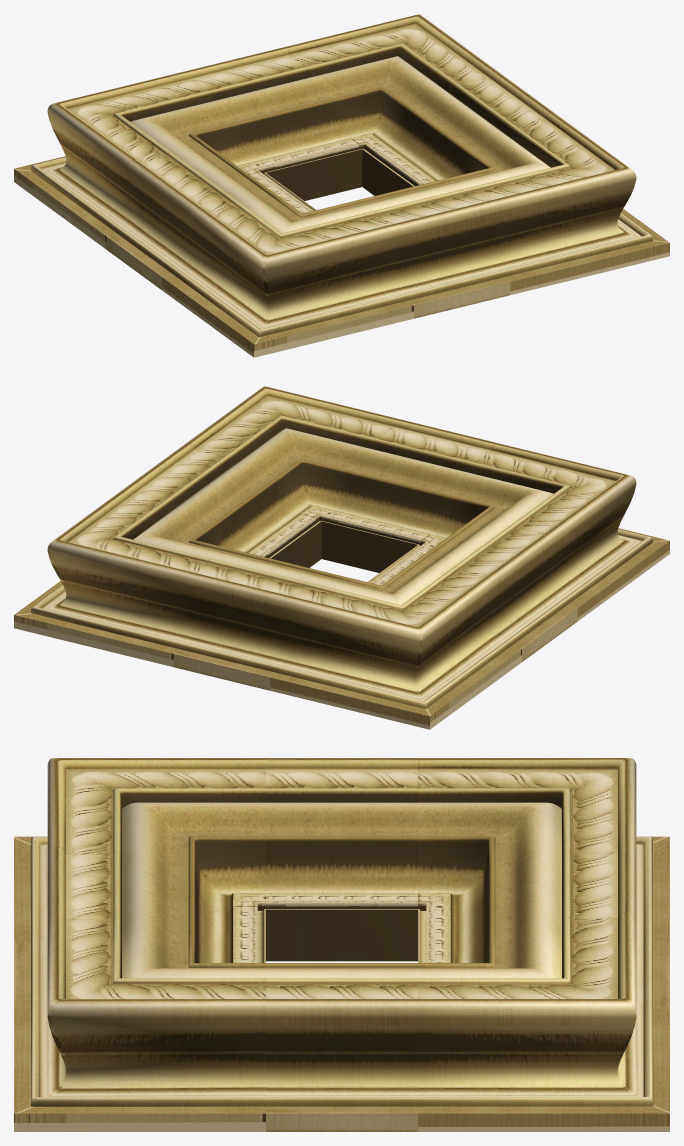
Rendered from website4-gold.FBX.
The picture shows the model from 3 angles, top to bottom: view 1: azimuth 30°, elevation 25°; view 2: azimuth 150°, elevation 25°; view 3: azimuth 270°, elevation 25°; orthographic projection. The views are drawn at different scales.
Visible parts, largest first — view 1: website5gold_bottom_L_Corner, website4gold_bottom_R_Corner, website5sgold_top_L_Corner, website5gold_top, website4gold_top_R_Corner, website4gold_bottom, website4gold_R, website5gold_L; view 2: website5sgold_top_L_Corner, website4gold_top_R_Corner, website5gold_bottom_L_Corner, website4gold_bottom, website4gold_bottom_R_Corner, website5gold_top, website4gold_R, website5gold_L; view 3: website4gold_top_R_Corner, website4gold_bottom_R_Corner, website5gold_L, website5gold_bottom_L_Corner, website5sgold_top_L_Corner, website4gold_R, website5gold_top, website4gold_bottom.
Part boxes in pixels (left/top/right/bottom): website5gold_bottom_L_Corner: left=162, top=192, right=413, bottom=357; website4gold_bottom_R_Corner: left=445, top=111, right=669, bottom=294; website5sgold_top_L_Corner: left=14, top=70, right=265, bottom=248; website5gold_top: left=189, top=47, right=362, bottom=200; website4gold_top_R_Corner: left=285, top=14, right=497, bottom=151; website4gold_bottom: left=348, top=179, right=510, bottom=318; website4gold_R: left=362, top=71, right=552, bottom=195; website5gold_L: left=106, top=151, right=316, bottom=289; website5sgold_top_L_Corner: left=270, top=564, right=521, bottom=729; website4gold_top_R_Corner: left=14, top=483, right=238, bottom=666; website5gold_bottom_L_Corner: left=418, top=442, right=669, bottom=620; website4gold_bottom: left=321, top=419, right=494, bottom=572; website4gold_bottom_R_Corner: left=186, top=386, right=398, bottom=523; website5gold_top: left=173, top=551, right=335, bottom=690; website4gold_R: left=131, top=443, right=321, bottom=567; website5gold_L: left=367, top=523, right=577, bottom=661; website4gold_top_R_Corner: left=418, top=911, right=669, bottom=1131; website4gold_bottom_R_Corner: left=14, top=911, right=265, bottom=1131; website5gold_L: left=266, top=758, right=417, bottom=961; website5gold_bottom_L_Corner: left=14, top=758, right=265, bottom=942; website5sgold_top_L_Corner: left=418, top=758, right=669, bottom=942; website4gold_R: left=266, top=963, right=417, bottom=1131; website5gold_top: left=418, top=847, right=669, bottom=1007; website4gold_bottom: left=14, top=847, right=265, bottom=1007.
Size of the model in its own units: 514 by 514 by 98.47.
2 materials, 2 textured.
